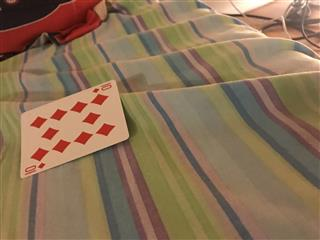TenOfDiamonds: (19, 78, 130, 178)
